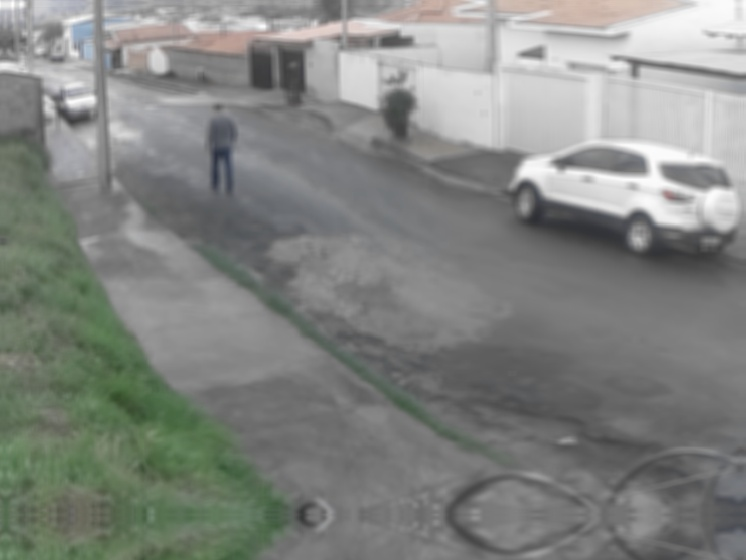person: (205, 102, 242, 196)
